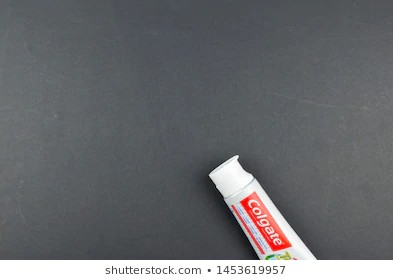colgate-total-150gm: (204, 149, 326, 263)
